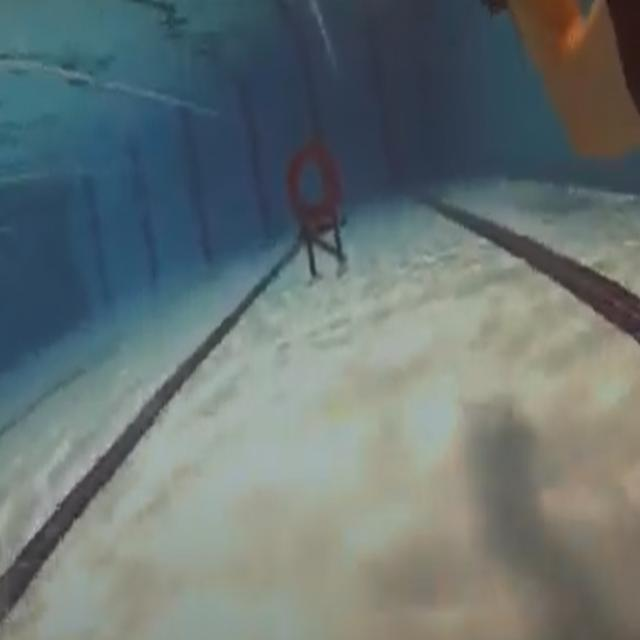Circle: (288, 139, 342, 224)
